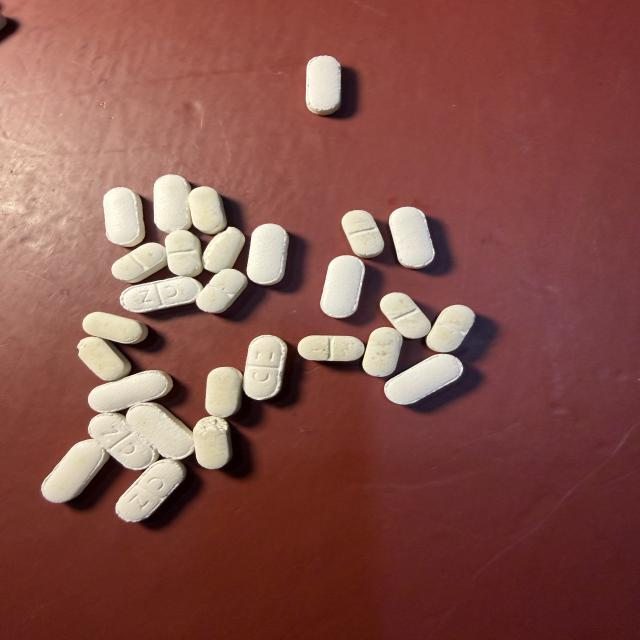pill: (116, 460, 186, 522), (42, 440, 109, 502), (89, 413, 158, 470), (385, 354, 462, 404), (127, 403, 193, 459), (89, 370, 172, 412), (120, 277, 202, 312), (243, 335, 287, 399), (389, 207, 434, 269), (321, 256, 364, 318), (247, 224, 288, 285), (104, 187, 144, 246), (153, 174, 192, 233), (78, 337, 131, 380), (427, 305, 475, 352), (380, 293, 430, 338), (196, 269, 247, 313), (112, 243, 166, 283), (306, 56, 341, 115), (83, 312, 148, 343), (194, 417, 232, 469), (342, 210, 383, 258), (363, 327, 402, 376), (203, 227, 245, 272), (206, 367, 242, 417), (165, 230, 202, 277), (189, 187, 226, 234), (298, 336, 364, 361), (0, 14, 7, 29)
